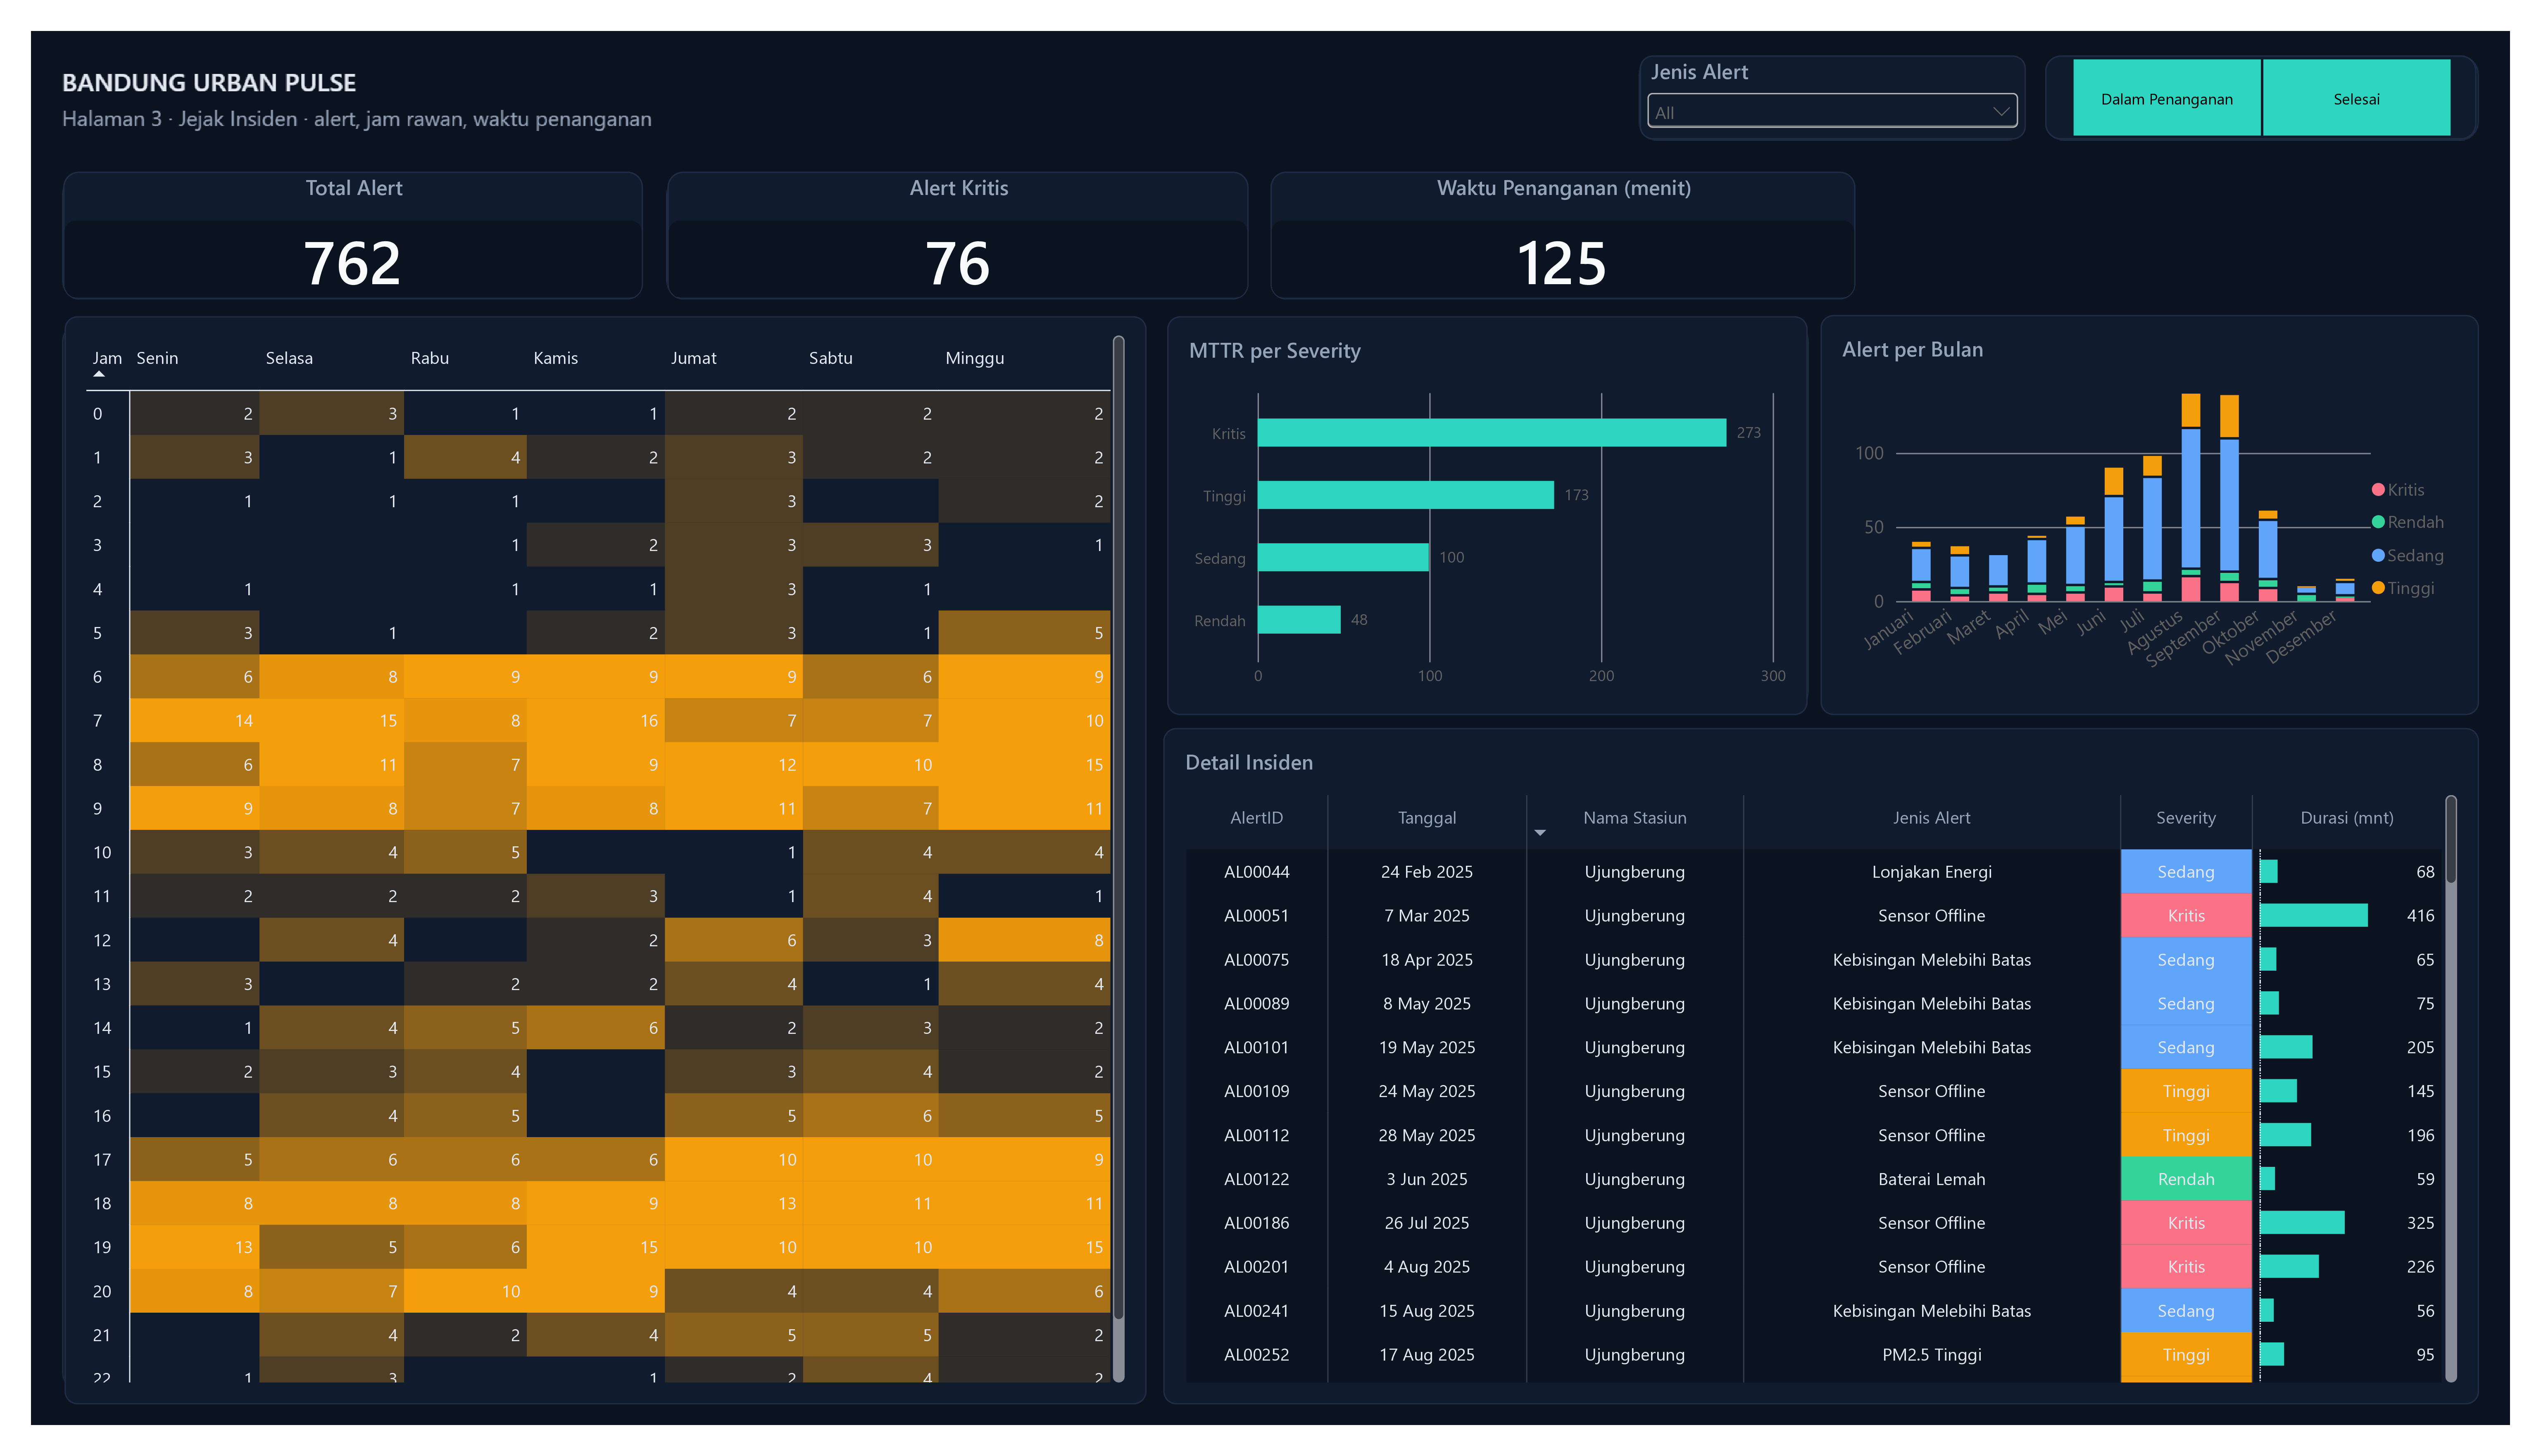

Layout of this report page (visuals, bound fields, positions):
{"tool":"powerbi","page":{"name":"Page 3 | Jejak Insiden","canvas":[1920,1080],"ordinal":2},"visuals":[{"type":"slicer","fields":{"Values":["Fact_Alert.Jenis_Alert"]},"box":[1245.7,18.6,299,65],"z":0},{"type":"slicer","fields":{"Values":["Fact_Alert.Status"]},"box":[1560,18.6,334.3,65.7],"z":1000},{"type":"cardVisual","title":"Total Alert","fields":{"Data":["_Measure.Total Alert"]},"box":[25.5,109.1,448.2,99.1],"z":2000},{"type":"cardVisual","title":"Alert Kritis","fields":{"Data":["_Measure.Alert Kritis"]},"box":[492.5,109.2,450.8,99.2],"z":3000},{"type":"cardVisual","title":"Waktu Penanganan (menit)","fields":{"Data":["_Measure.MTTR (menit)"]},"box":[960,109.2,452.5,99.2],"z":4000},{"type":"pivotTable","fields":{"Columns":["Dim_Tanggal.Hari"],"Rows":["Fact_Alert.Jam"],"Values":["_Measure.Total Alert"]},"box":[25.7,221.4,838.6,842.9],"z":5000},{"type":"columnChart","title":"Alert per Bulan","fields":{"Category":["Dim_Tanggal.Bulan"],"Series":["Fact_Alert.Severity"],"Y":["_Measure.Total Alert"]},"box":[1386,220,510,310],"z":6000},{"type":"tableEx","title":"Detail Insiden","fields":{"Values":["Fact_Alert.AlertID","Fact_Alert.Tanggal","Dim_Stasiun.Nama_Stasiun","Fact_Alert.Jenis_Alert","Fact_Alert.Severity","Sum(Fact_Alert.Durasi_Penanganan_Menit)"]},"box":[877.1,540,1018.6,524.3],"z":7000},{"type":"clusteredBarChart","title":"MTTR per Severity","fields":{"Category":["Fact_Alert.Severity"],"Y":["_Measure.MTTR (menit)"]},"box":[880,220.9,496.4,309.1],"z":8000}]}

Visuals, with their boxes on the page's 1920x1080 design canvas (x1, y1, x2, y2). These are canvas units, not pixel positions in the 2541x1456 screenshot, which may show the page scaled, cropped or inside an application window:
slicer - Fact_Alert.Jenis_Alert: 1246 19 1545 84
slicer - Fact_Alert.Status: 1560 19 1894 84
"Total Alert" cardVisual: 26 109 474 208
"Alert Kritis" cardVisual: 492 109 943 208
"Waktu Penanganan (menit)" cardVisual: 960 109 1412 208
pivotTable - Dim_Tanggal.Hari x Fact_Alert.Jam: 26 221 864 1064
"Alert per Bulan" columnChart: 1386 220 1896 530
"Detail Insiden" tableEx: 877 540 1896 1064
"MTTR per Severity" clusteredBarChart: 880 221 1376 530
